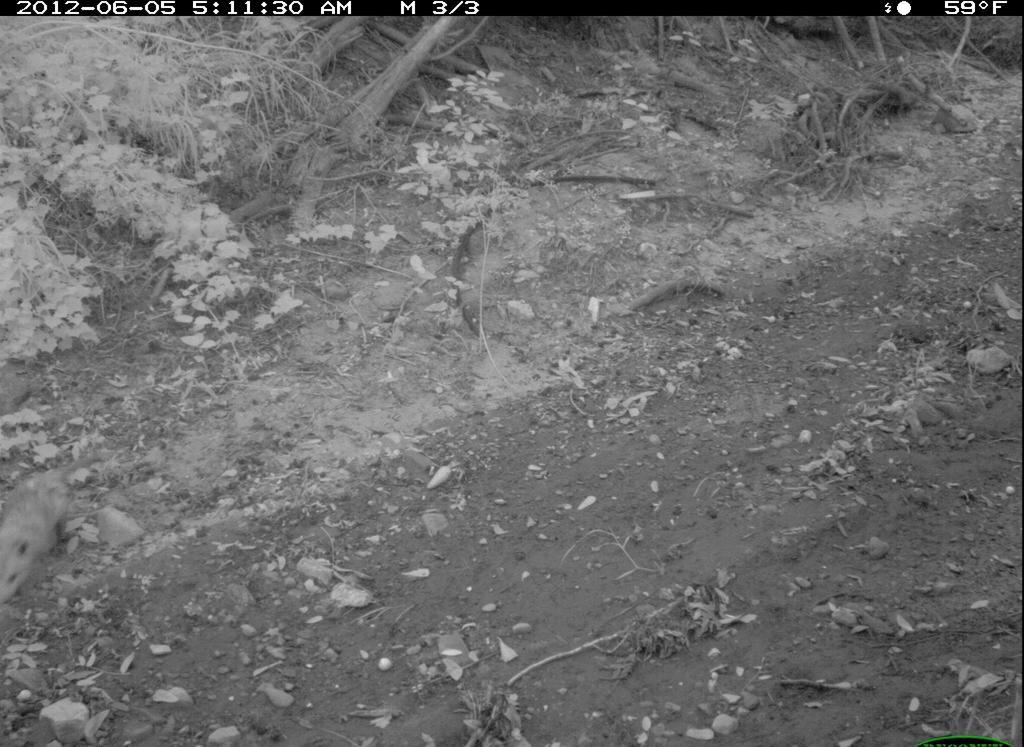opossum: (2, 451, 123, 609)
